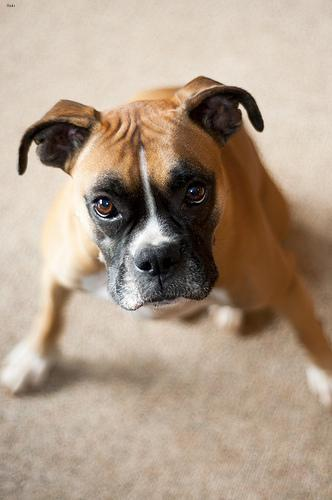dog-boxer: (17, 75, 263, 310)
